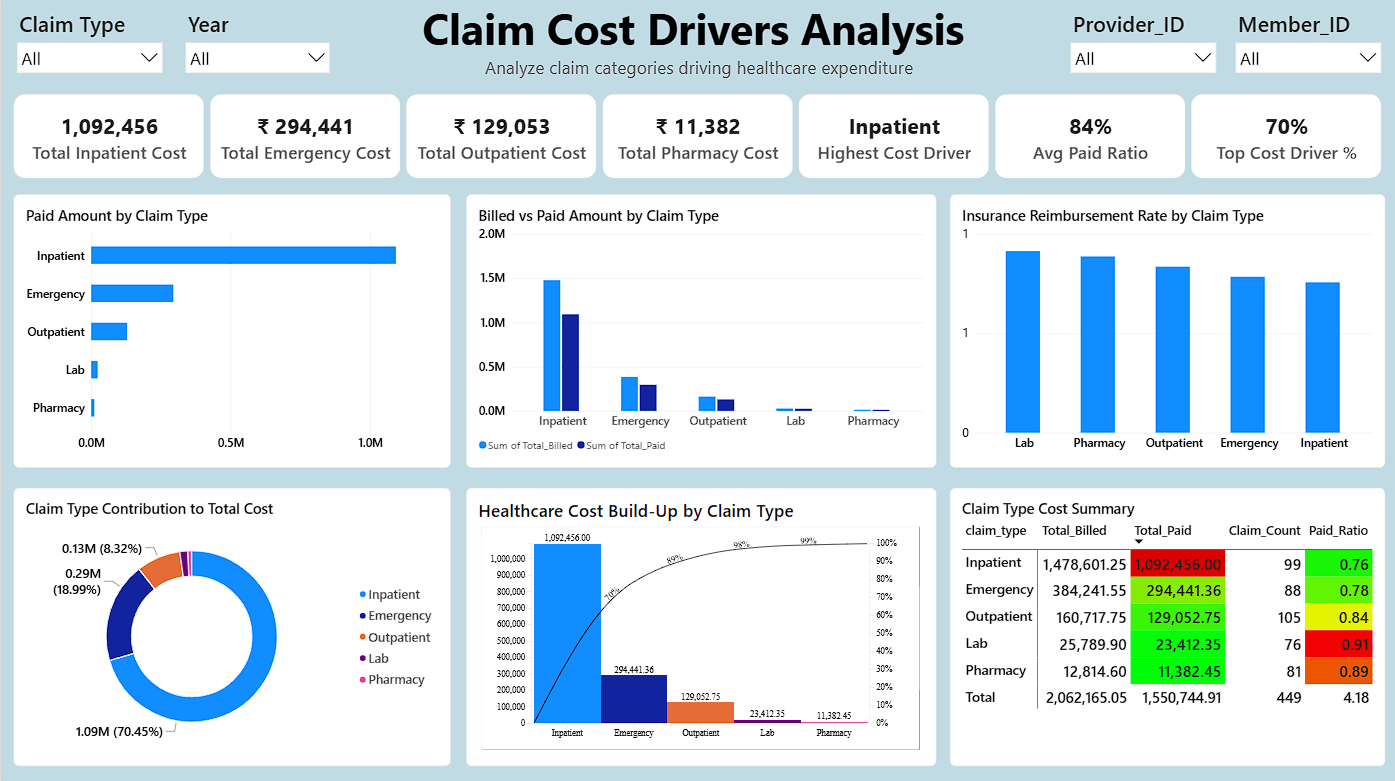

Layout of this report page (visuals, bound fields, positions):
{"tool":"powerbi","page":{"name":"Claims Cost","canvas":[1920,1080],"ordinal":1},"visuals":[{"type":"textbox","box":[579.1,0,761.8,110.4],"z":0},{"type":"slicer","fields":{"Values":["claims.claim_type"]},"box":[17.3,13,209.9,100],"z":1000},{"type":"slicer","fields":{"Values":["claims.claim_date.Variation.Date Hierarchy.Year"]},"box":[248.9,13,207.8,99.6],"z":2000},{"type":"slicer","fields":{"Values":["claims.provider_id"]},"box":[1467.3,13,209.9,99.6],"z":3000},{"type":"slicer","fields":{"Values":["claims.member_id"]},"box":[1694.5,13,209.9,99.6],"z":4000},{"type":"cardVisual","fields":{"Data":["claims.Total Inpatient Cost","claims.Total Emergency Cost","claims.Total Outpatient Cost","claims.Total Pharmacy Cost","claims.Highest Cost Driver","claims.Avg Paid Ratio","claims.Top Cost Driver %"]},"box":[17.3,129.8,1887.1,116.9],"z":5000},{"type":"clusteredBarChart","title":"Paid Amount by Claim Type","fields":{"Category":["vw_ClaimTypeAnalysis.claim_type"],"Y":["Sum(vw_ClaimTypeAnalysis.Total_Paid)"]},"box":[17.3,268.4,601.6,376.6],"z":6000},{"type":"clusteredColumnChart","title":"Billed vs Paid Amount by Claim Type","fields":{"Category":["vw_ClaimTypeAnalysis.claim_type"],"Y":["Sum(vw_ClaimTypeAnalysis.Total_Billed)","Sum(vw_ClaimTypeAnalysis.Total_Paid)"]},"box":[640.6,268.4,647.1,376.6],"z":7000},{"type":"columnChart","title":"Insurance Reimbursement Rate by Claim Type","fields":{"Category":["vw_PaidRatio.claim_type"],"Y":["Sum(vw_PaidRatio.Paid_Ratio)"]},"box":[1305,268.4,599.5,376.6],"z":8000},{"type":"donutChart","title":"Claim Type Contribution to Total Cost","fields":{"Category":["claims.claim_type"],"Y":["Sum(claims.paid_amount)"]},"box":[17.3,673,601.6,383.1],"z":9000},{"type":"paretoplus2EFEC13210A14D3E82580687601DE984","title":"Healthcare Cost Build-Up by Claim Type","fields":{"categories":["vw_ClaimTypeAnalysis.claim_type"],"values":["Sum(vw_ClaimTypeAnalysis.Total_Paid)"]},"box":[640.6,673,647.1,383.1],"z":10000},{"type":"pivotTable","title":"Claim Type Cost Summary","fields":{"Rows":["vw_ClaimTypeAnalysis.claim_type"],"Values":["Sum(vw_ClaimTypeAnalysis.Total_Billed)","Sum(vw_ClaimTypeAnalysis.Total_Paid)","Sum(vw_ClaimTypeAnalysis.Claim_Count)","Sum(vw_PaidRatio.Paid_Ratio)"]},"box":[1305,673,599.5,383.1],"z":11000}]}

Visuals, with their boxes in screenshot pixels (x1, y1, x2, y2), scaled from the page's 1920x1080 canvas onto the 1395x781 screenshot:
textbox: crop(421, 0, 974, 80)
slicer - claims.claim_type: crop(13, 9, 165, 82)
slicer - claims.claim_date.Variation.Date Hierarchy.Year: crop(181, 9, 332, 81)
slicer - claims.provider_id: crop(1066, 9, 1219, 81)
slicer - claims.member_id: crop(1231, 9, 1384, 81)
cardVisual - claims.Total Inpatient Cost x claims.Total Emergency Cost: crop(13, 94, 1384, 178)
"Paid Amount by Claim Type" clusteredBarChart: crop(13, 194, 450, 466)
"Billed vs Paid Amount by Claim Type" clusteredColumnChart: crop(465, 194, 936, 466)
"Insurance Reimbursement Rate by Claim Type" columnChart: crop(948, 194, 1384, 466)
"Claim Type Contribution to Total Cost" donutChart: crop(13, 487, 450, 764)
"Healthcare Cost Build-Up by Claim Type" paretoplus2EFEC13210A14D3E82580687601DE984: crop(465, 487, 936, 764)
"Claim Type Cost Summary" pivotTable: crop(948, 487, 1384, 764)
